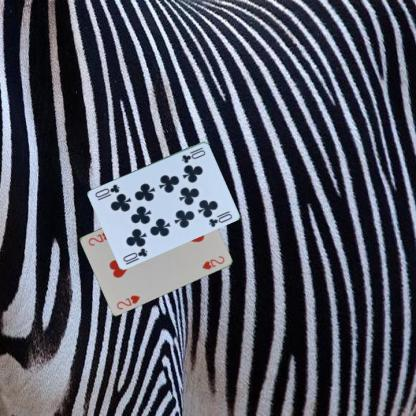10c: (179, 145, 207, 164), (121, 245, 148, 263)
2h: (114, 292, 141, 310)
